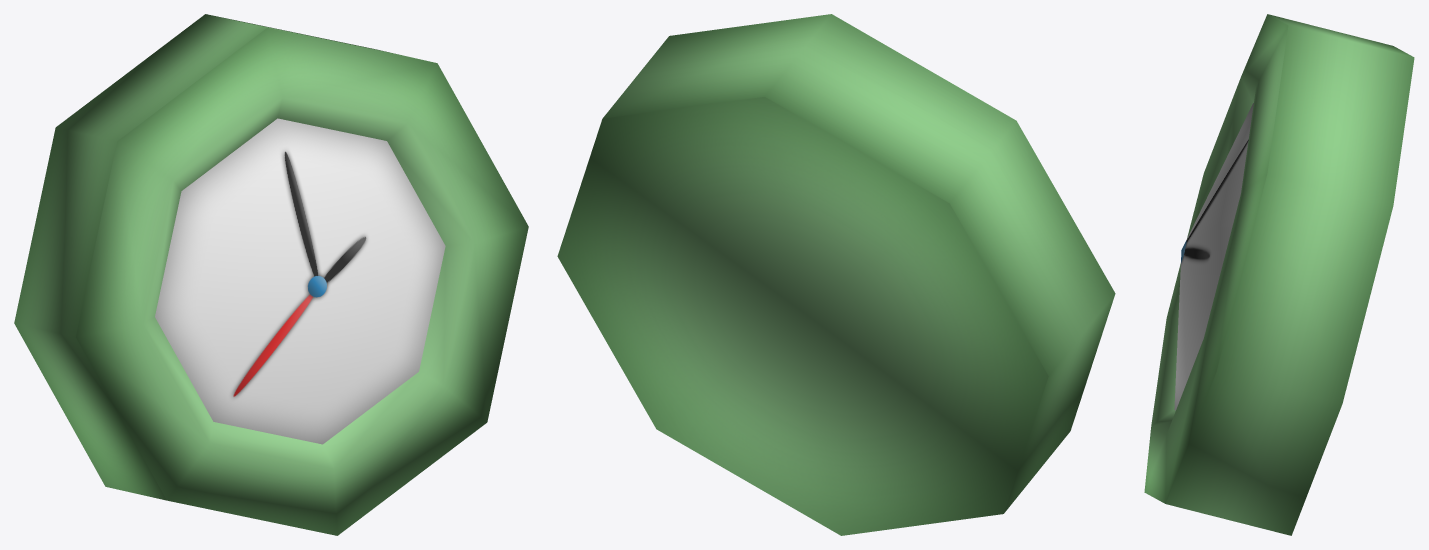
Rendered from clock.fbx.
The picture shows the model from 3 angles, left to right: view 1: azimuth 30°, elevation 25°; view 2: azimuth 150°, elevation 25°; view 3: azimuth 270°, elevation 25°; orthographic projection. The views are drawn at different scales.
Visible parts, largest first — view 1: clock; view 2: clock; view 3: clock.
Boxes of the visible parts, box(x1,y1,x2,y2) form: clock: box(14, 14, 528, 535); clock: box(557, 14, 1115, 535); clock: box(1144, 14, 1414, 535).
Bounding box in the file's own units: 2 × 2.06 × 1.01.
1 material, 1 textured.
